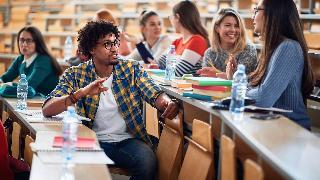person - v3 P: (42, 20, 179, 179), (246, 0, 315, 129), (0, 27, 62, 95), (198, 8, 256, 78), (169, 0, 210, 76), (120, 11, 172, 63)
